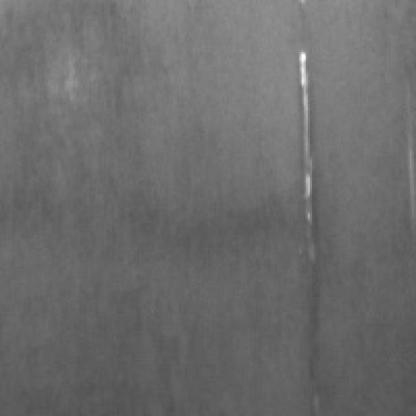scratches: (297, 44, 323, 264)
